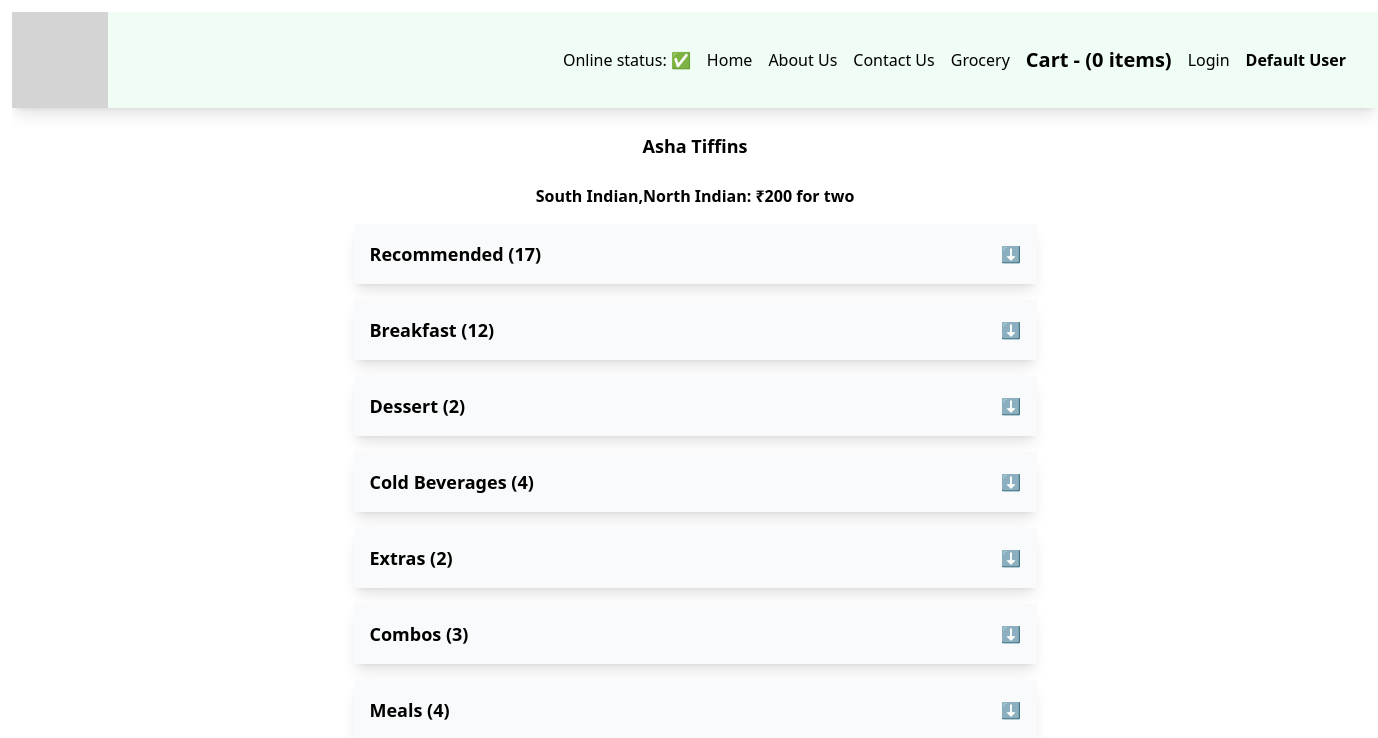
Scenario: Should add 1 item to cart
This screenshot has width=1378, height=738.
Click the text "Breakfast (12)": (432, 330) [370,316,494,344]
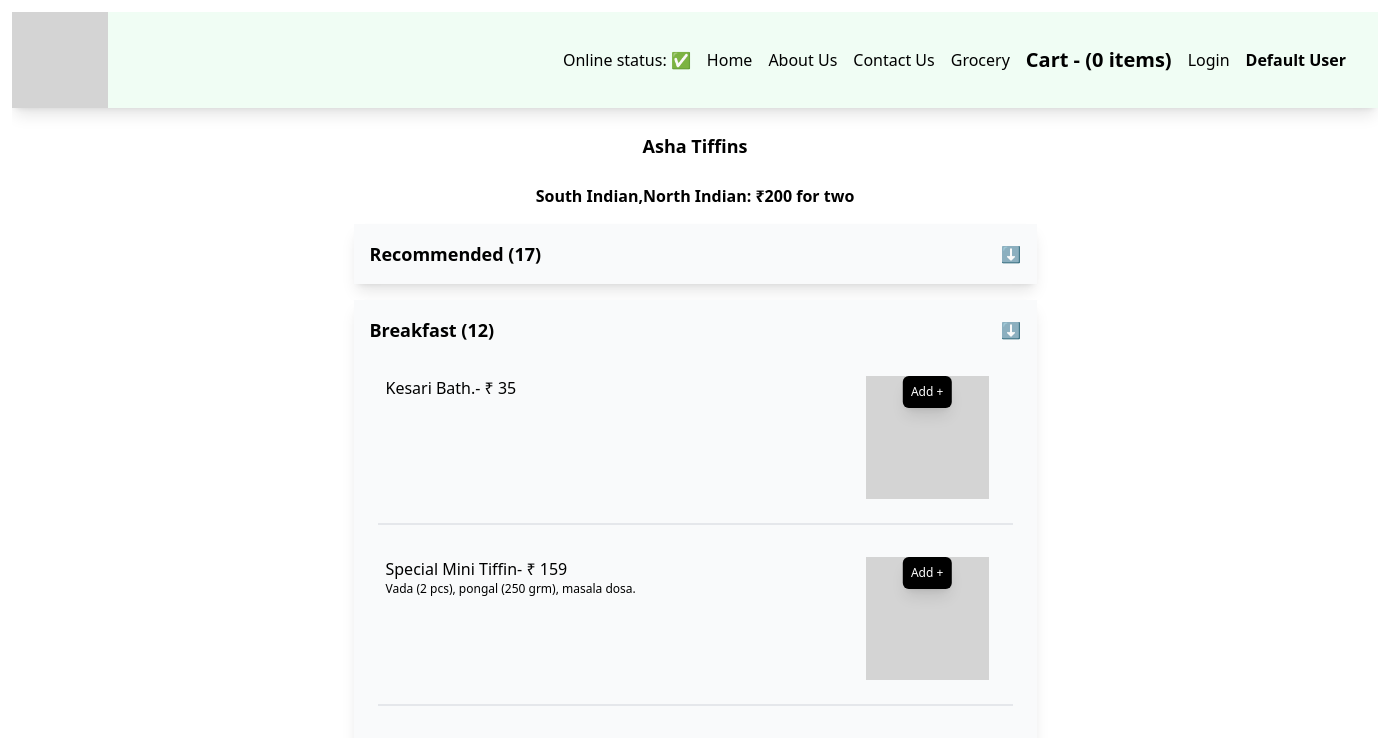
Click the button "Add +" in the row of "Kesari Bath.": (927, 392) [903,376,951,408]
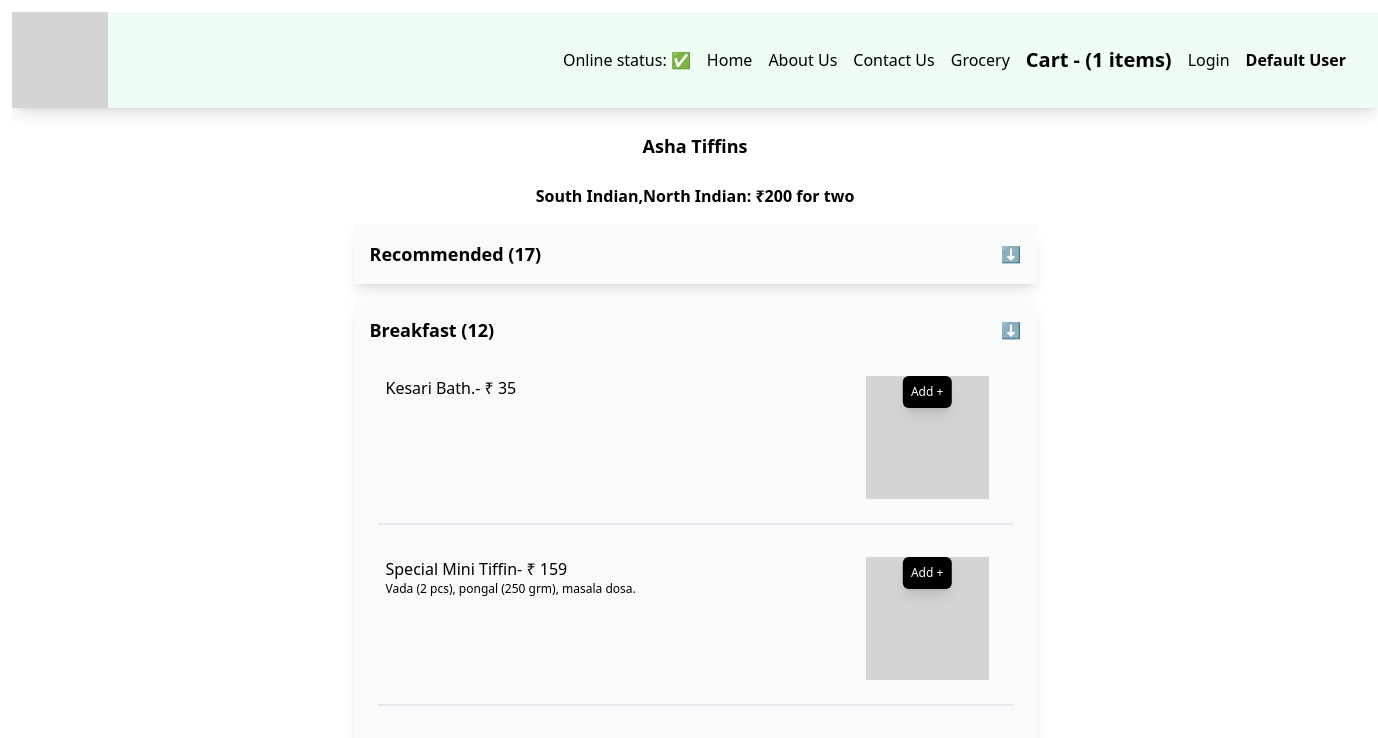
expect the link "Cart - (1 items)" is shown: met, box [1026,46,1172,73]
